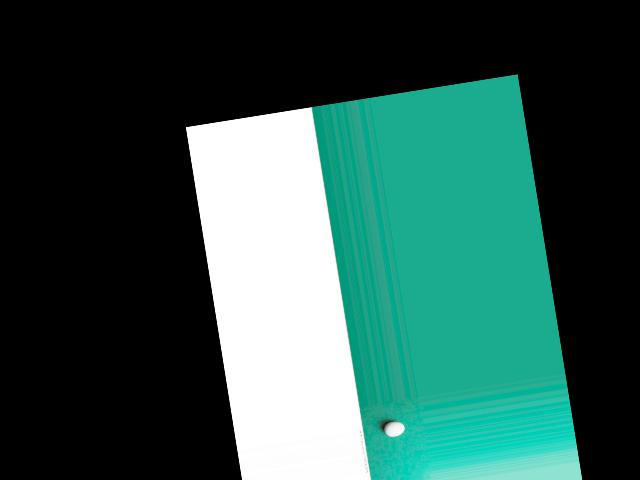egg: (383, 421, 405, 438)
